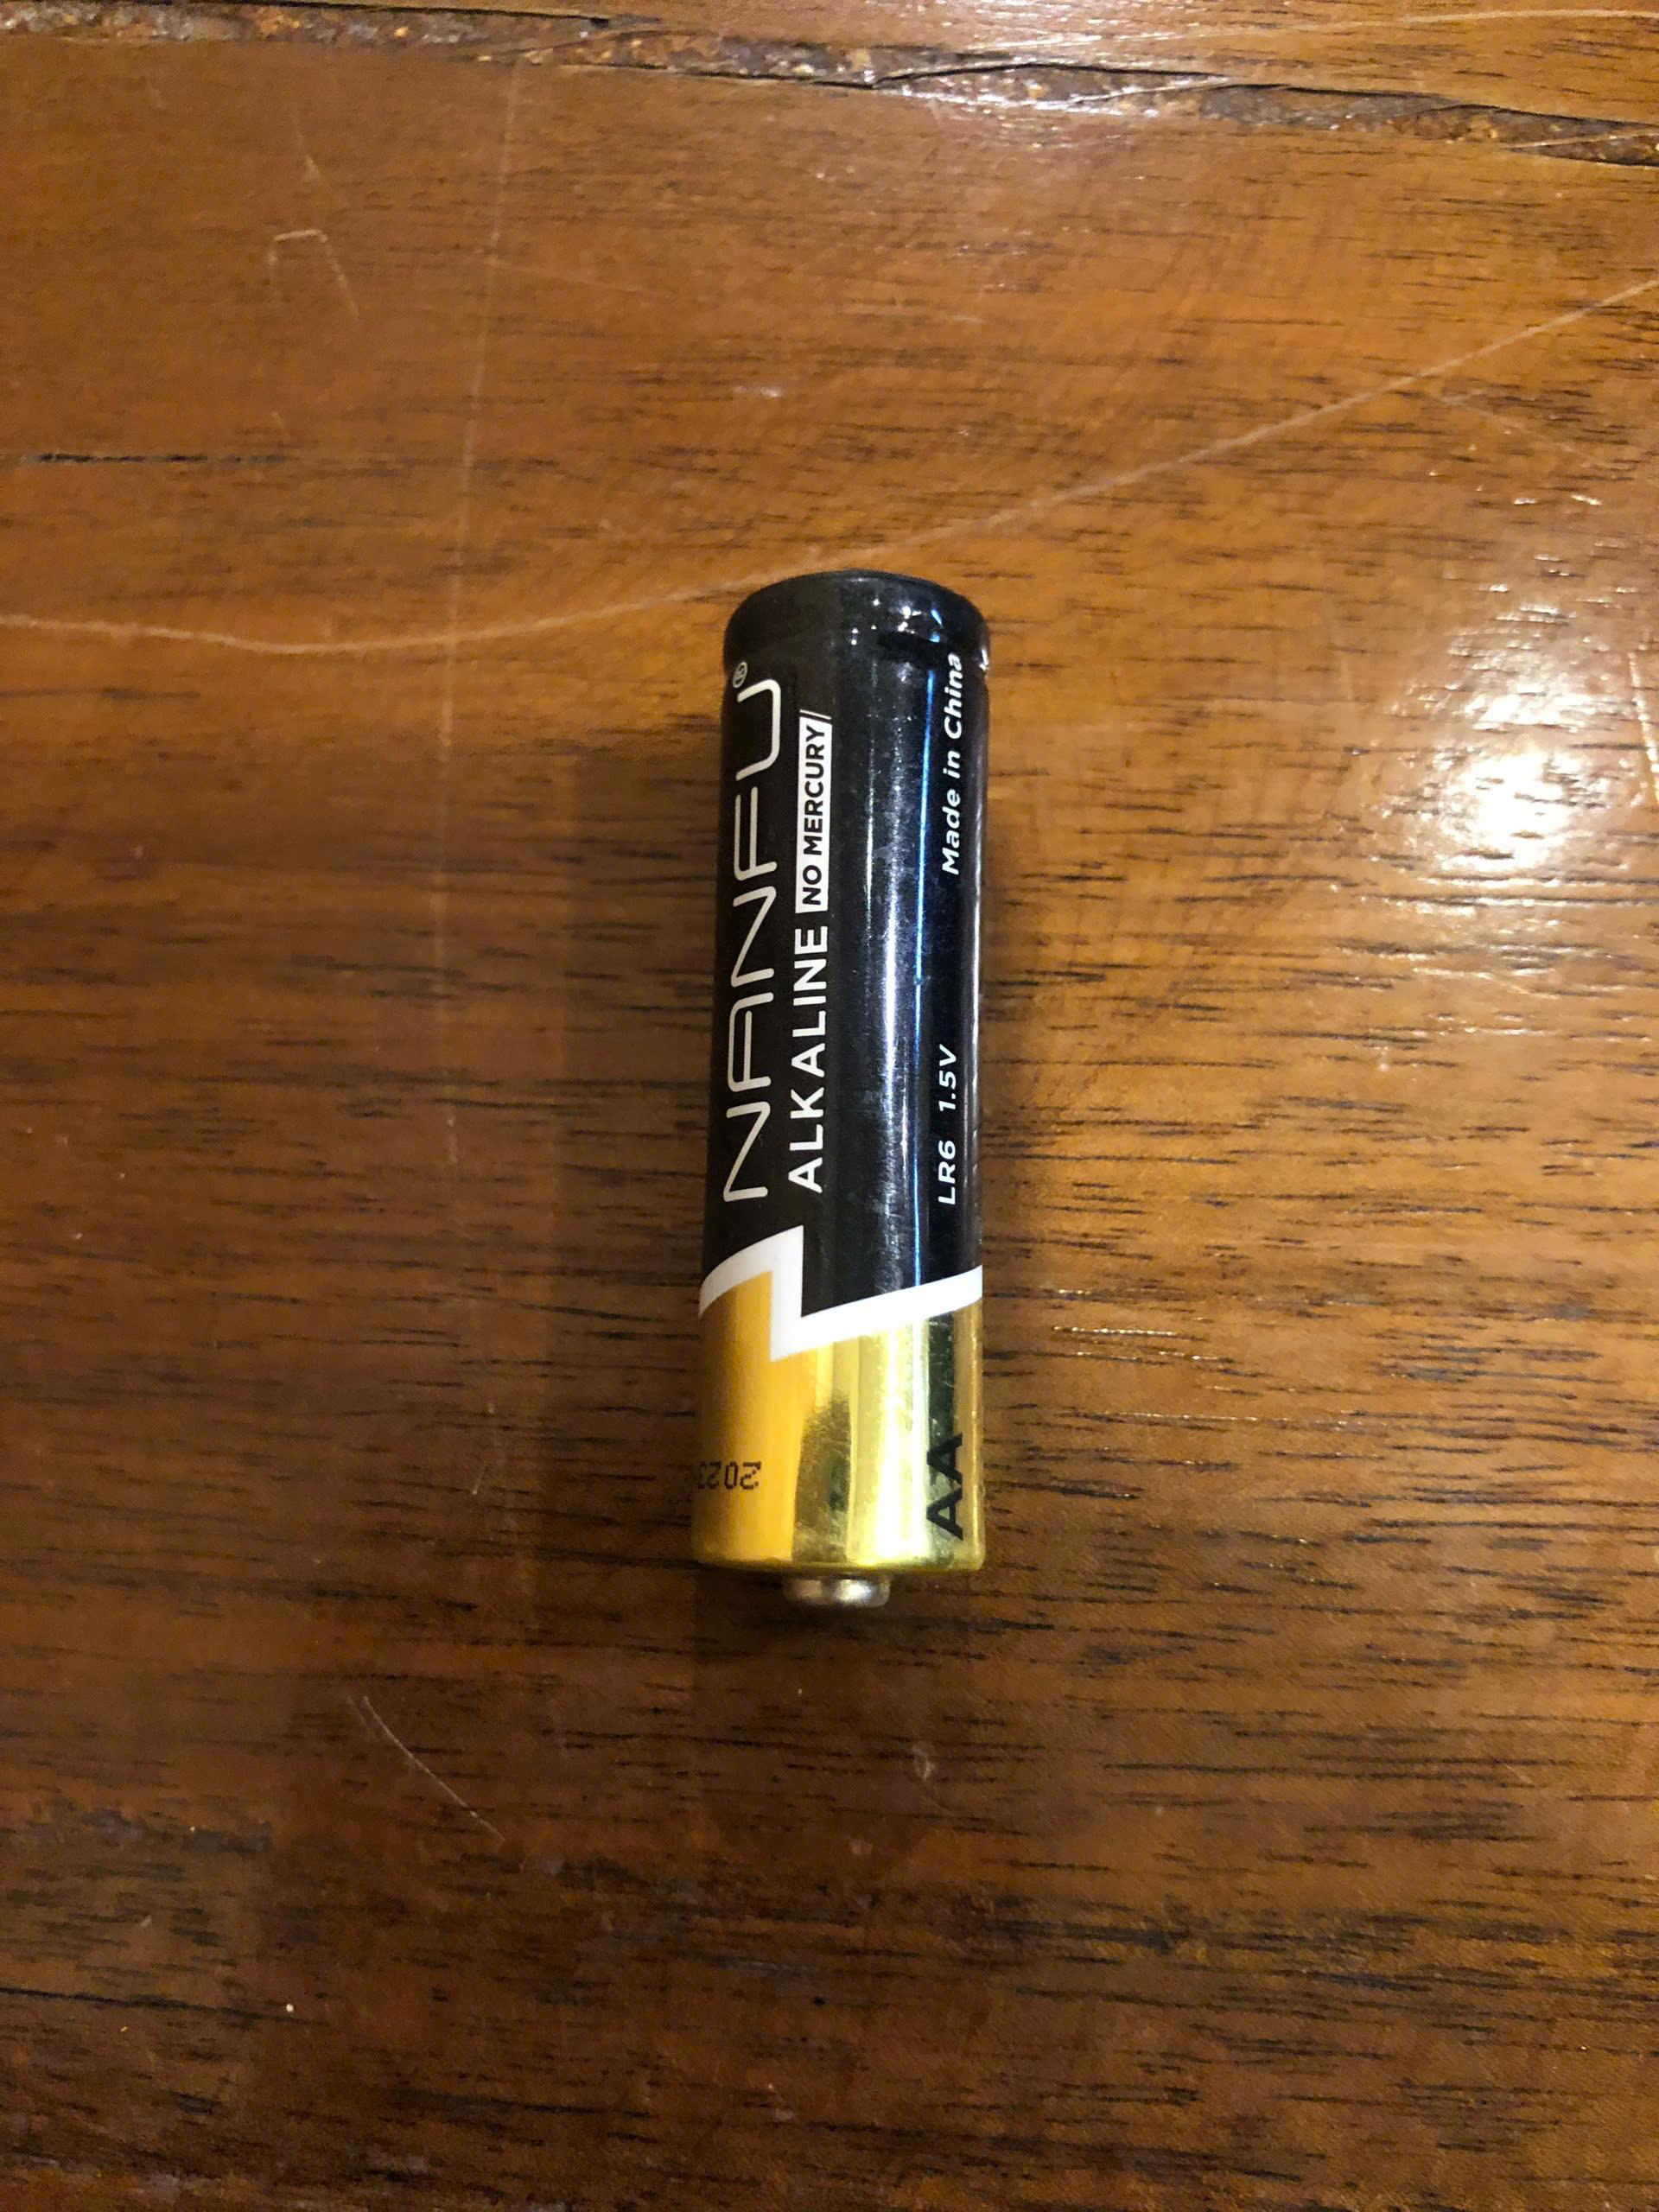Con lai: (701, 563, 999, 1618)
